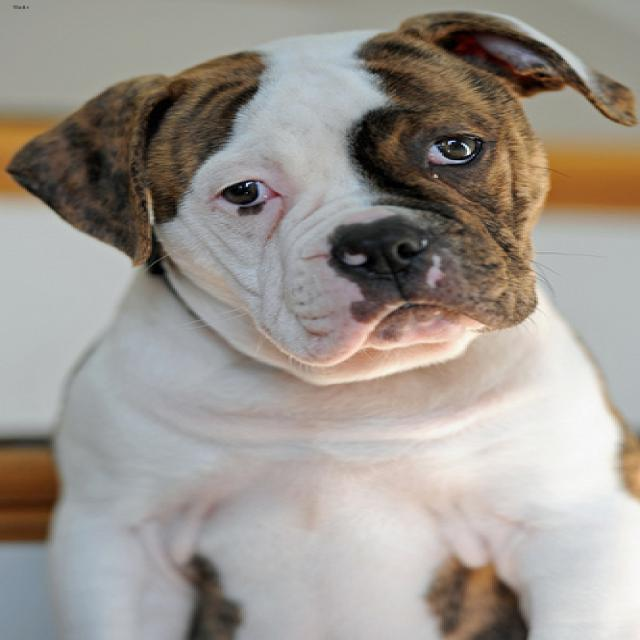dog-american_bulldog: (2, 1, 636, 637)
